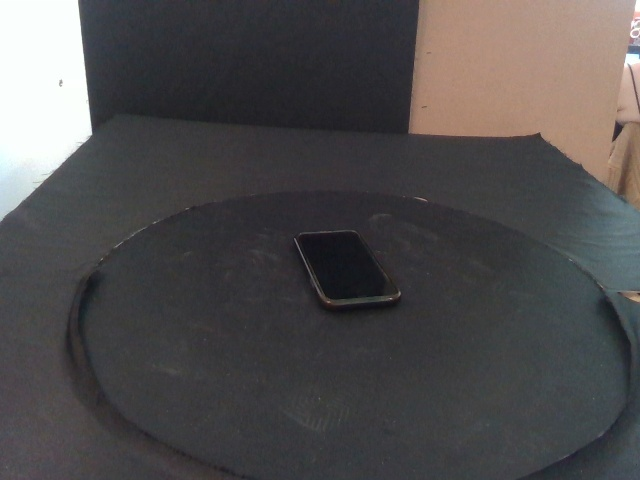phone: (292, 229, 402, 311)
